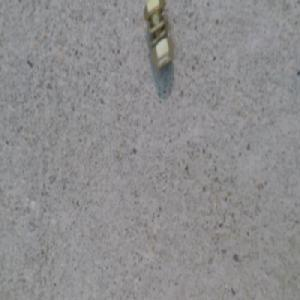BoltNutSet: (147, 6, 175, 78)
